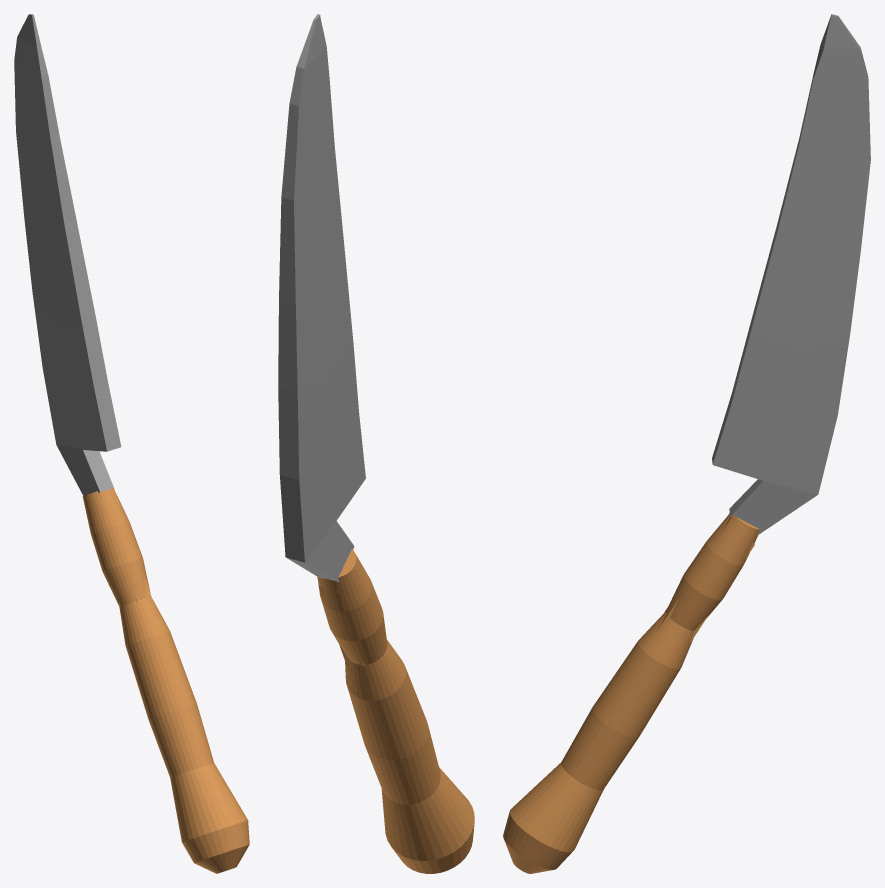
The model's file is Scissors.fbx.
3 renders of one model, left to right at view 1: azimuth 30°, elevation 25°; view 2: azimuth 150°, elevation 25°; view 3: azimuth 270°, elevation 25°, orthographic. The views are drawn at different scales.
Visible parts, largest first — view 1: Right scissor.001; view 2: Right scissor.001; view 3: Right scissor.001.
Part boxes in pixels (x1=…): Right scissor.001: x1=14, y1=14, x2=249, y2=873; Right scissor.001: x1=278, y1=14, x2=474, y2=873; Right scissor.001: x1=503, y1=14, x2=870, y2=873.
Bounding box in the file's own units: 73.15 × 664 × 266.
